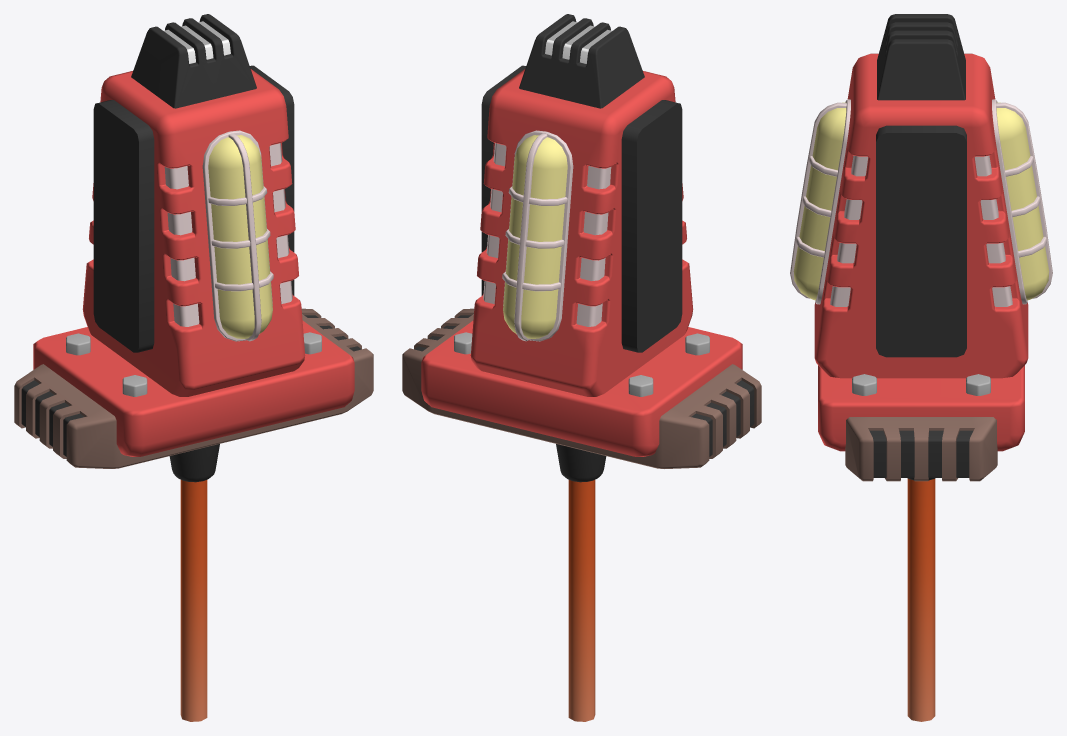
The model's file is obstacle_4_002.fbx.
The picture shows the model from 3 angles, left to right: view 1: azimuth 30°, elevation 25°; view 2: azimuth 150°, elevation 25°; view 3: azimuth 270°, elevation 25°; orthographic projection.
Visible parts, largest first — view 1: obstacle_4_002; view 2: obstacle_4_002; view 3: obstacle_4_002.
Part boxes in pixels (box(x1,y1,x2,y2)): obstacle_4_002: box(14, 14, 373, 721); obstacle_4_002: box(402, 14, 761, 721); obstacle_4_002: box(790, 14, 1052, 721).
Size of the model in its own units: 403 by 303 by 875.
